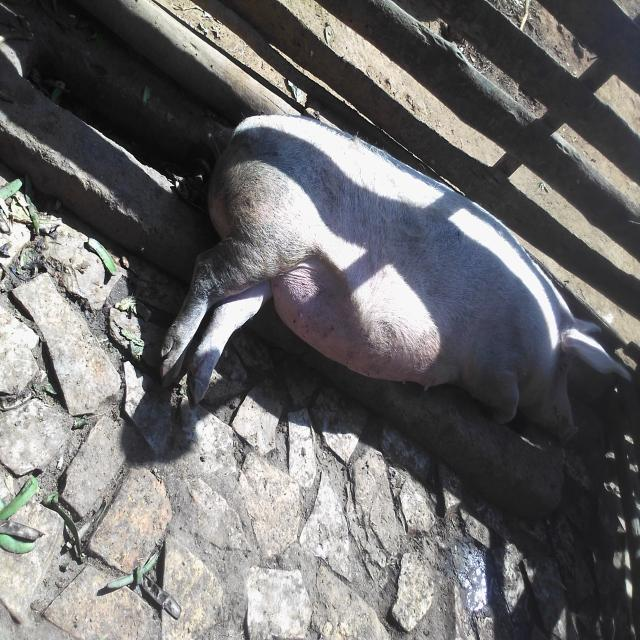pig: (107, 64, 639, 493)
